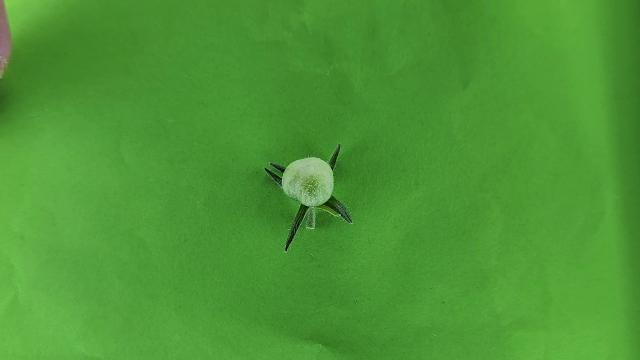Fruit Maturation: (280, 156, 336, 207)
